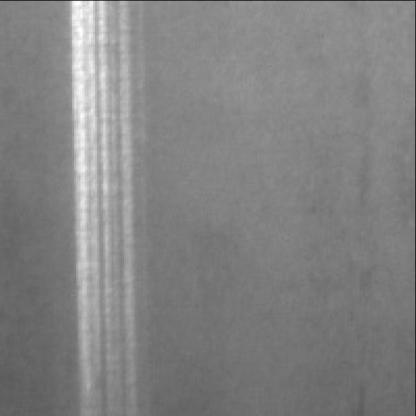scratches: (69, 0, 146, 410)
